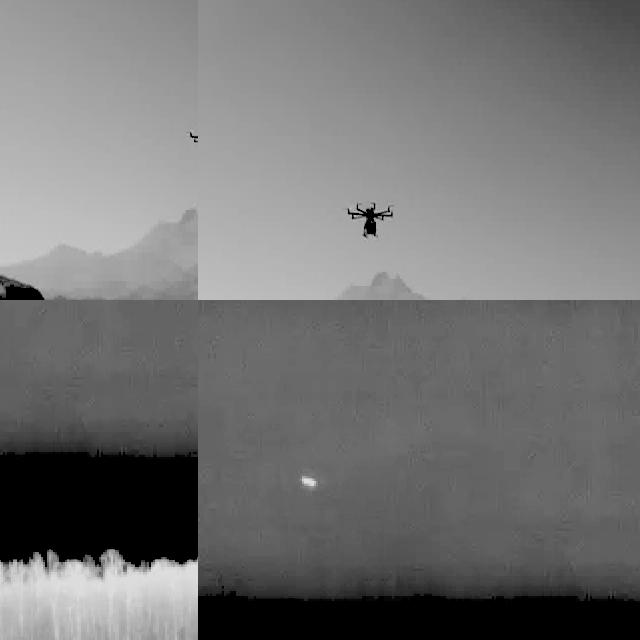1: (290, 470, 326, 500)
drone: (348, 196, 398, 242), (187, 114, 198, 165)
